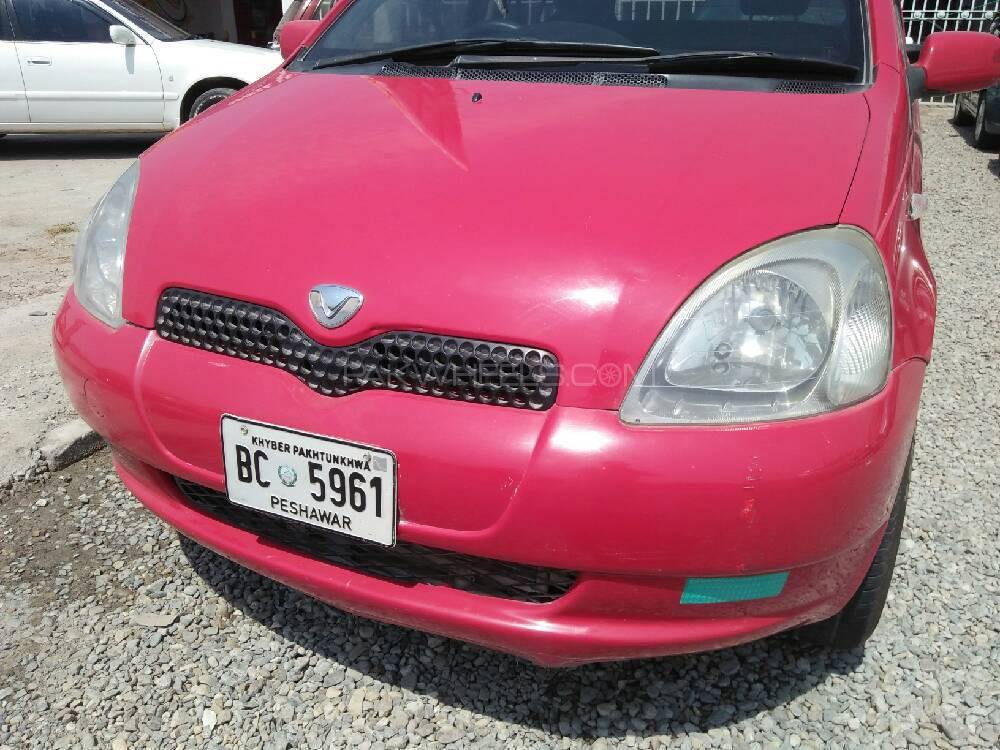license plate: (224, 429, 394, 536)
